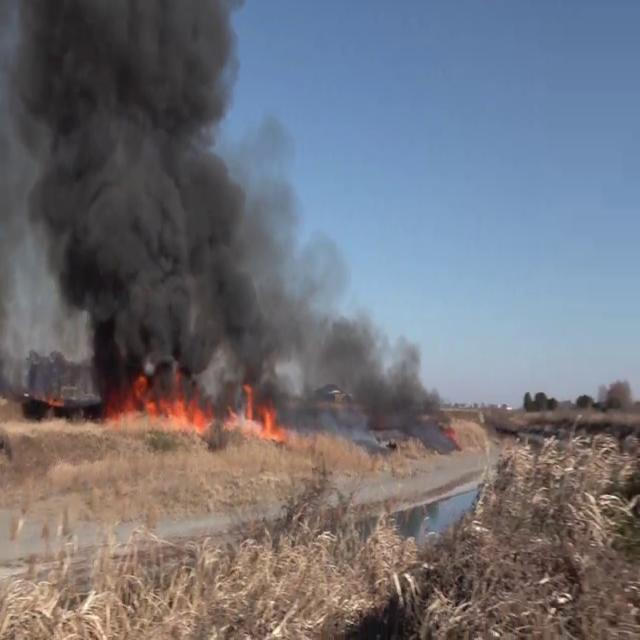Fire: (96, 368, 212, 432), (224, 376, 288, 442)
Smoke: (2, 0, 302, 402), (292, 286, 458, 438)
